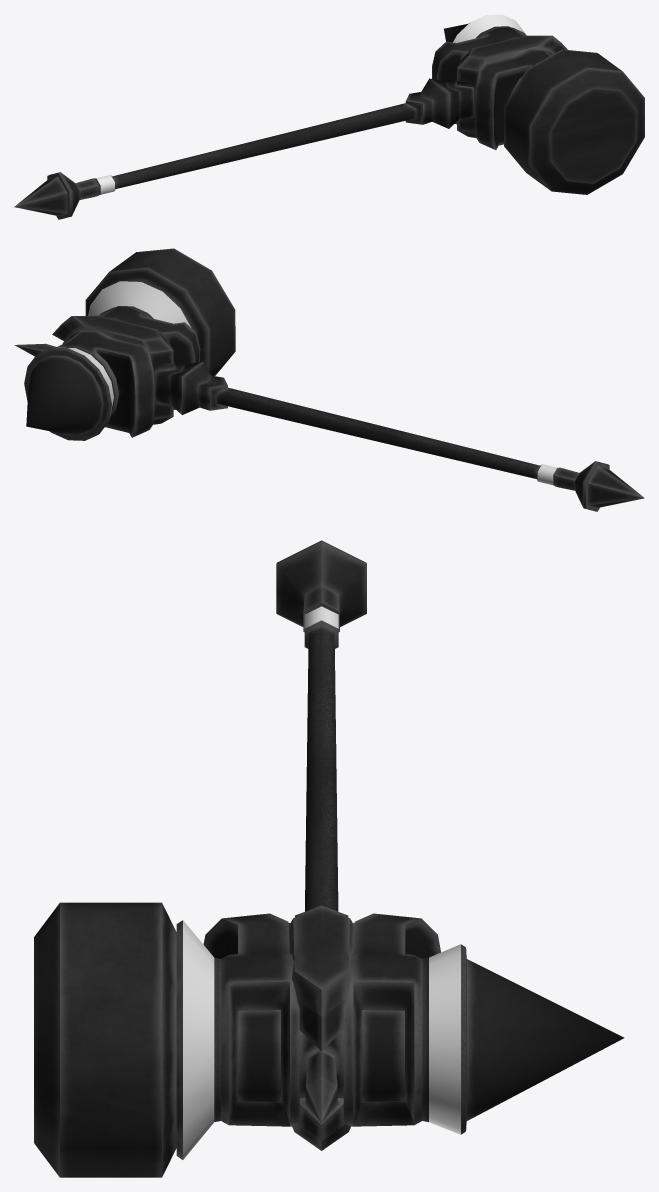
File: hammer.fbx
3 renders of one model, top to bottom at view 1: azimuth 30°, elevation 25°; view 2: azimuth 150°, elevation 25°; view 3: azimuth 270°, elevation 25°, orthographic. The views are drawn at different scales.
Parts seen in each view (by area): view 1: Cube; view 2: Cube; view 3: Cube.
Boxes of the visible parts, x1,y1,x2,y2 form: Cube: [14, 14, 644, 219]; Cube: [14, 248, 644, 511]; Cube: [34, 540, 624, 1177].
Size of the model in its own units: 2.2 by 0.4496 by 0.9488.
